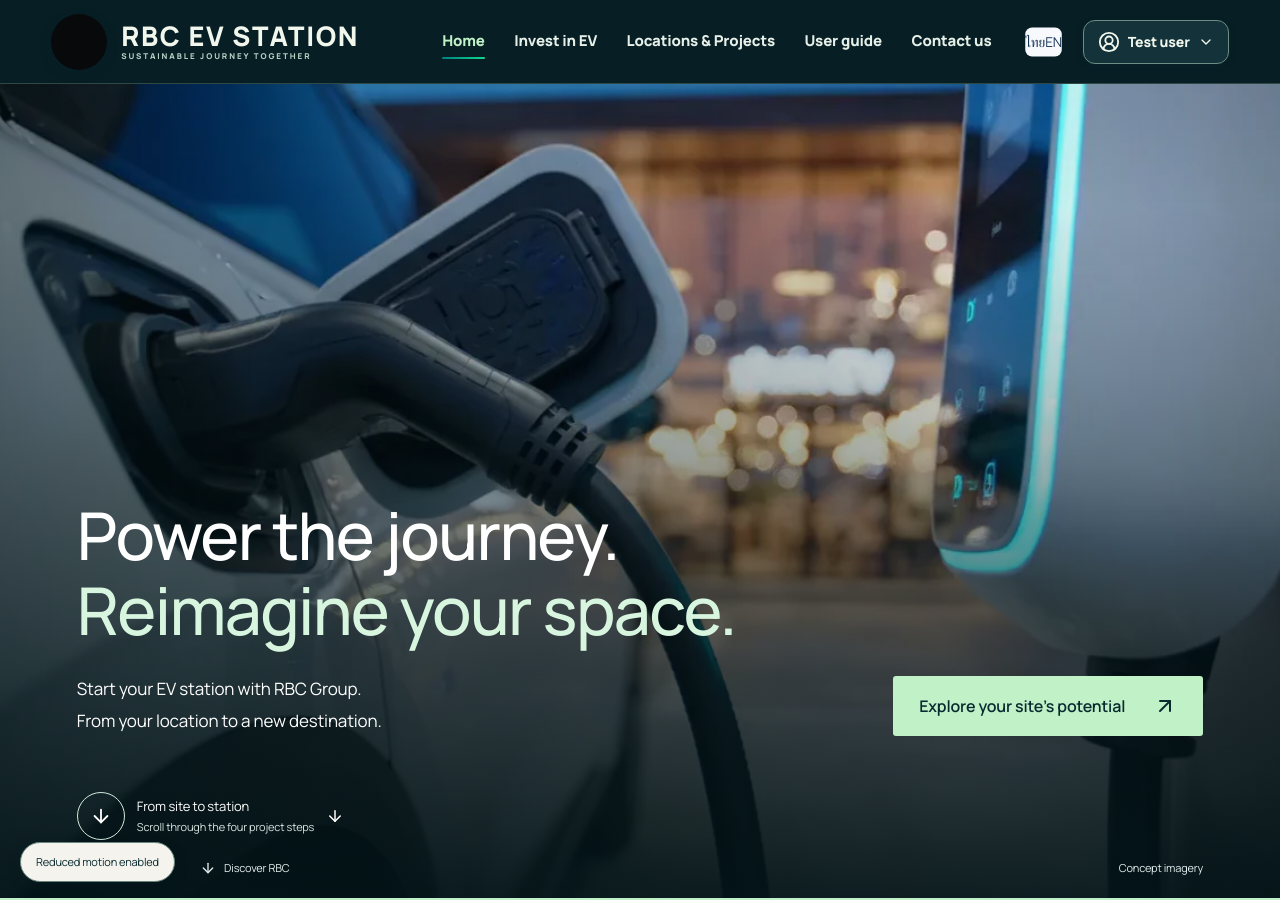
Test case: App access boundaries › offers logout from the account menu on the landing page
The width and height of the screenshot is (1280, 900).
Click the button with aria-label "Open account menu": [1156, 42] box [1083,20,1229,64]
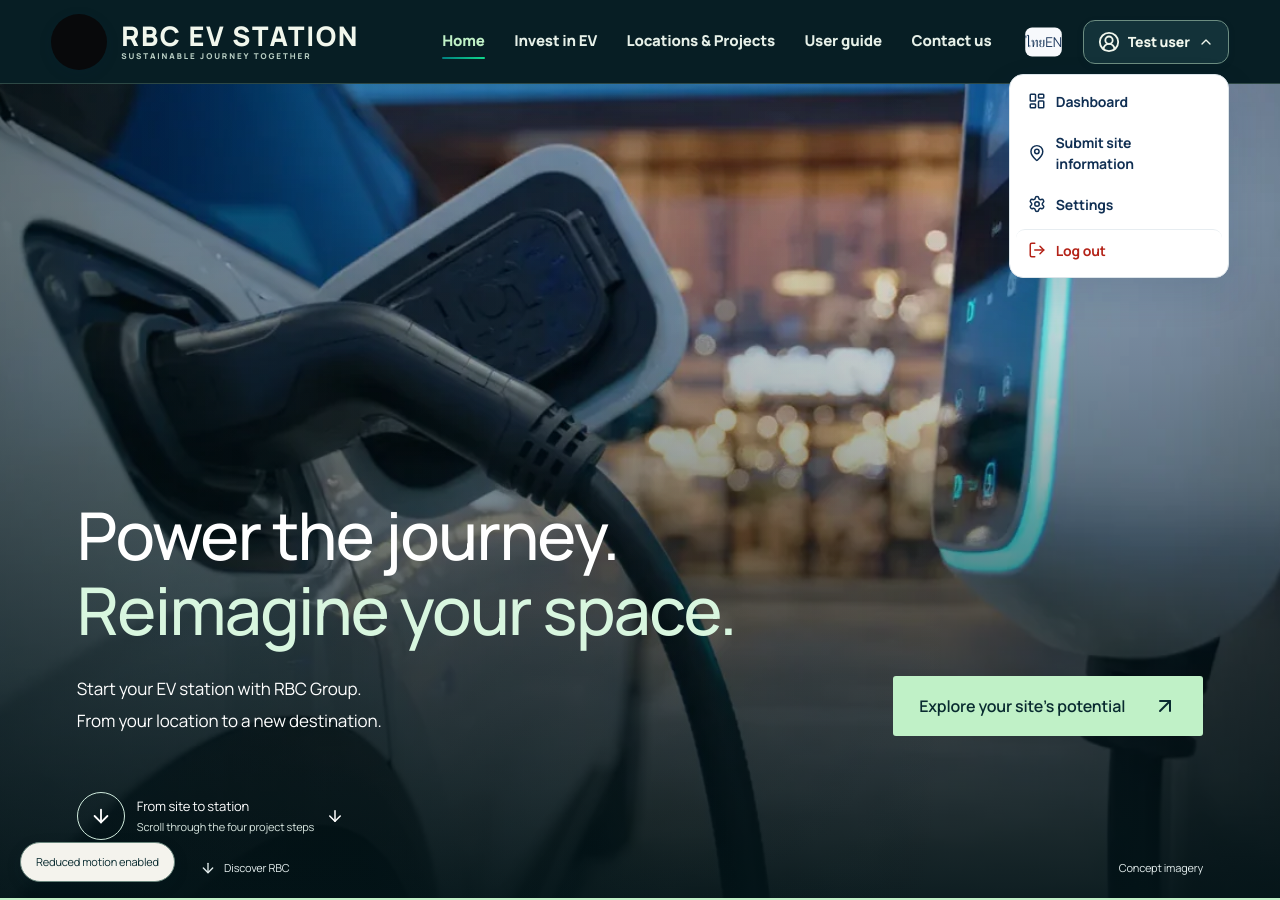
Click the button "Log out": [1119, 250] box [1016,228,1222,270]
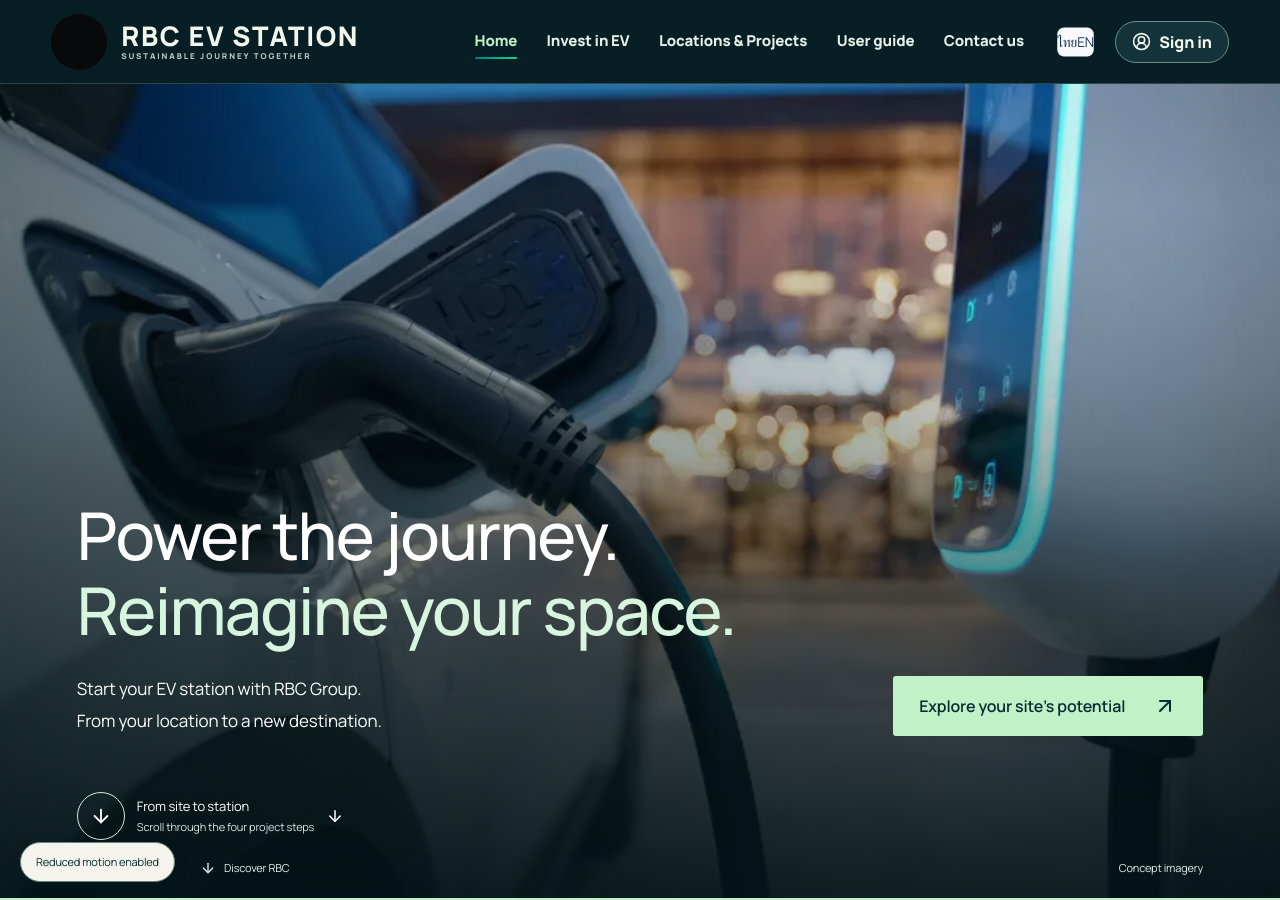
Expected: the link "Sign in" is shown, [1115,20,1229,62]
